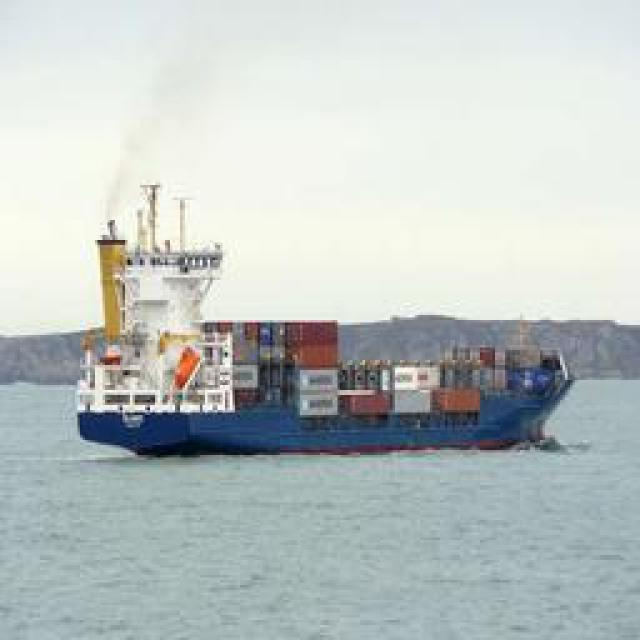Ship: (67, 348, 580, 456)
